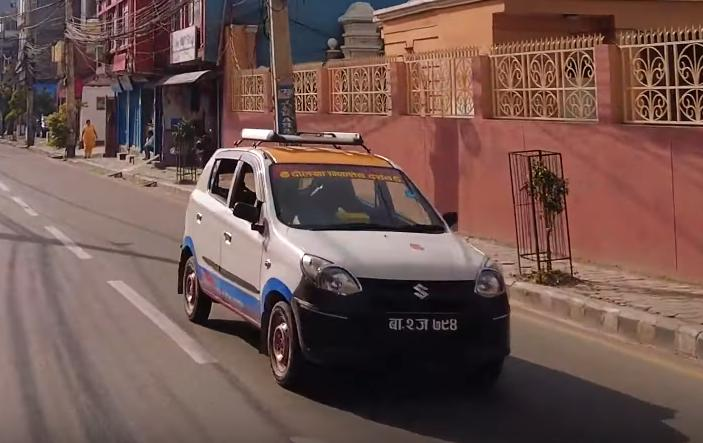taxi: (170, 125, 519, 404)
